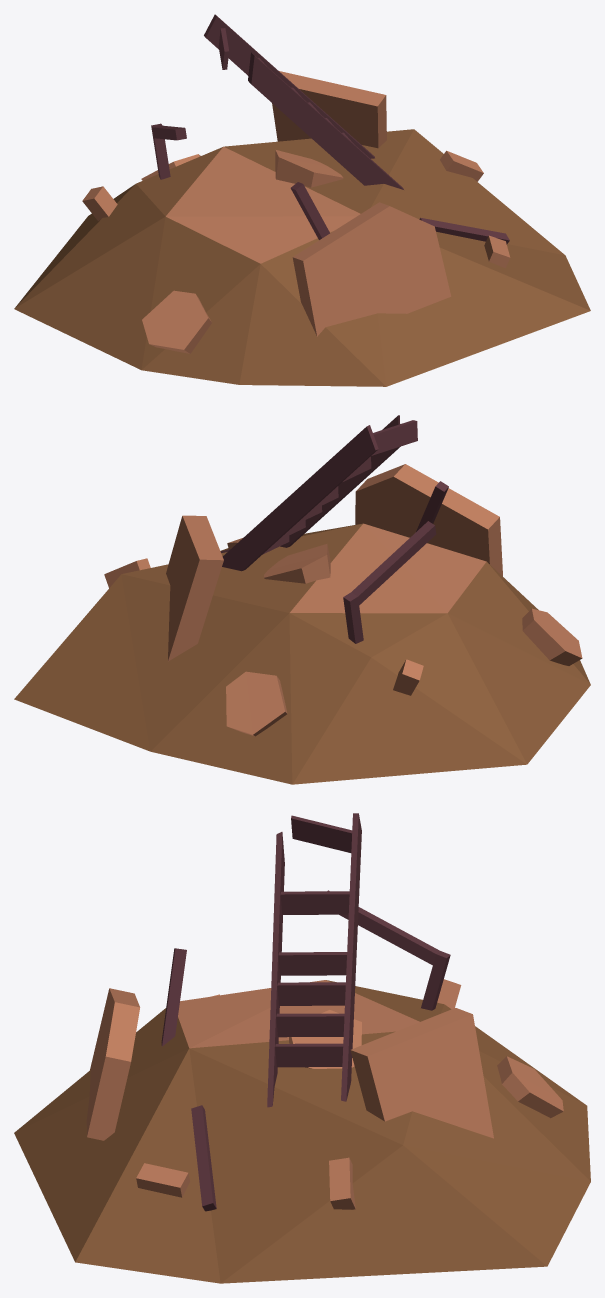
Rendered from rubble-apocalypse-d.fbx.
The picture shows the model from 3 angles, top to bottom: view 1: azimuth 30°, elevation 25°; view 2: azimuth 150°, elevation 25°; view 3: azimuth 270°, elevation 25°; orthographic projection. The views are drawn at different scales.
Visible parts, largest first — view 1: rubble-apocalypse-d; view 2: rubble-apocalypse-d; view 3: rubble-apocalypse-d.
Boxes of the visible parts, x1,y1,x2,y2 form: rubble-apocalypse-d: (14, 14, 590, 386); rubble-apocalypse-d: (14, 415, 590, 784); rubble-apocalypse-d: (14, 813, 590, 1283).
Bounding box in the file's own units: 5.27 × 2.88 × 4.9.
